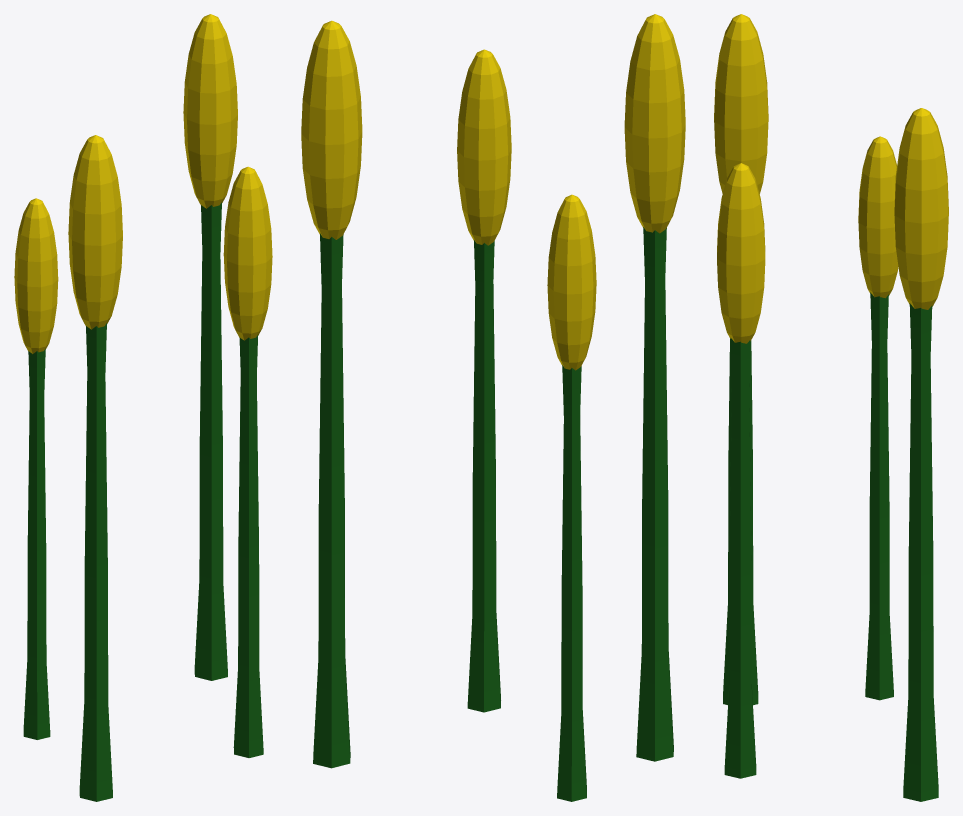
Rendered from grass3.fbx.
3 renders of one model, left to right at view 1: azimuth 30°, elevation 25°; view 2: azimuth 150°, elevation 25°; view 3: azimuth 270°, elevation 25°, orthographic. The views are drawn at different scales.
Parts seen in each view (by area): view 1: pSphere11; view 2: pSphere11; view 3: pSphere11.
Part boxes in pixels (x1=…): pSphere11: x1=14, y1=14, x2=272, y2=801; pSphere11: x1=301, y1=14, x2=685, y2=801; pSphere11: x1=714, y1=14, x2=948, y2=801.
Bounding box in the file's own units: 9.99 × 25.54 × 7.83.
